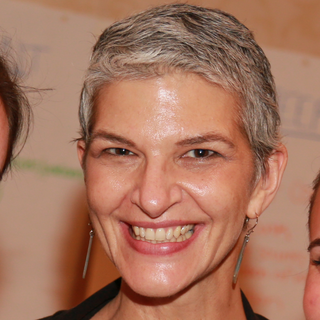eye: (96, 141, 147, 165), (174, 144, 229, 166)
